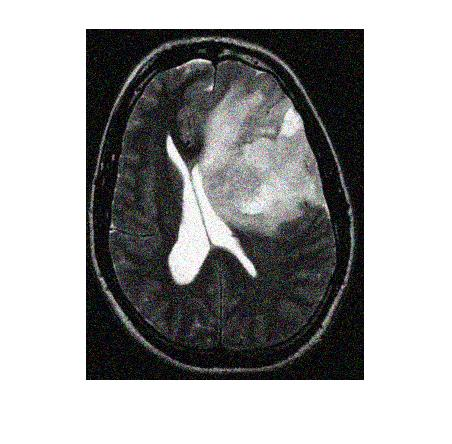Brain_Cancer: (201, 78, 332, 232)
